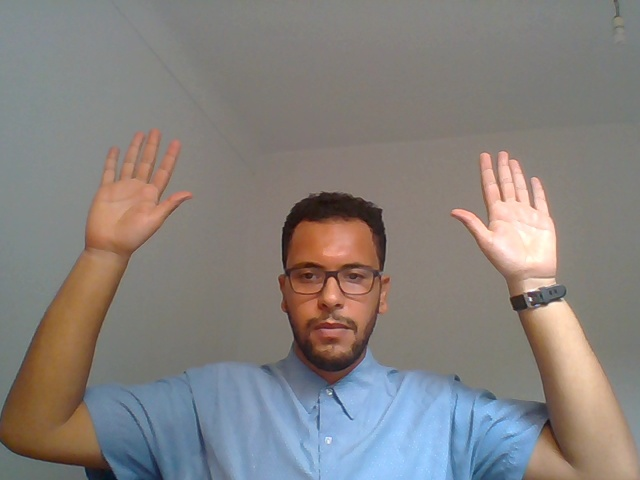hello: (30, 107, 220, 392), (436, 138, 614, 407)
